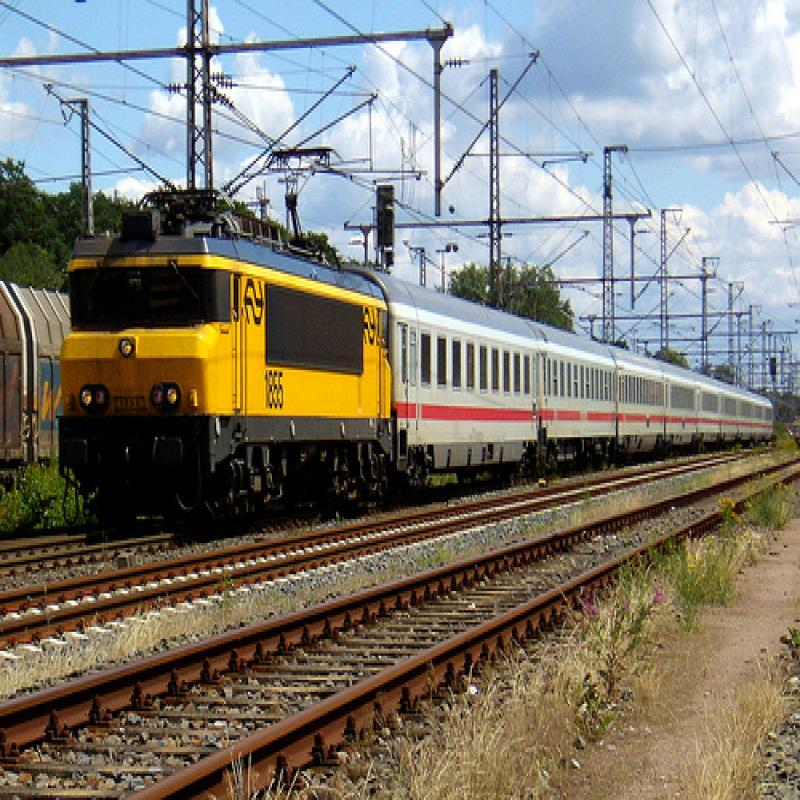train: (60, 141, 774, 535)
